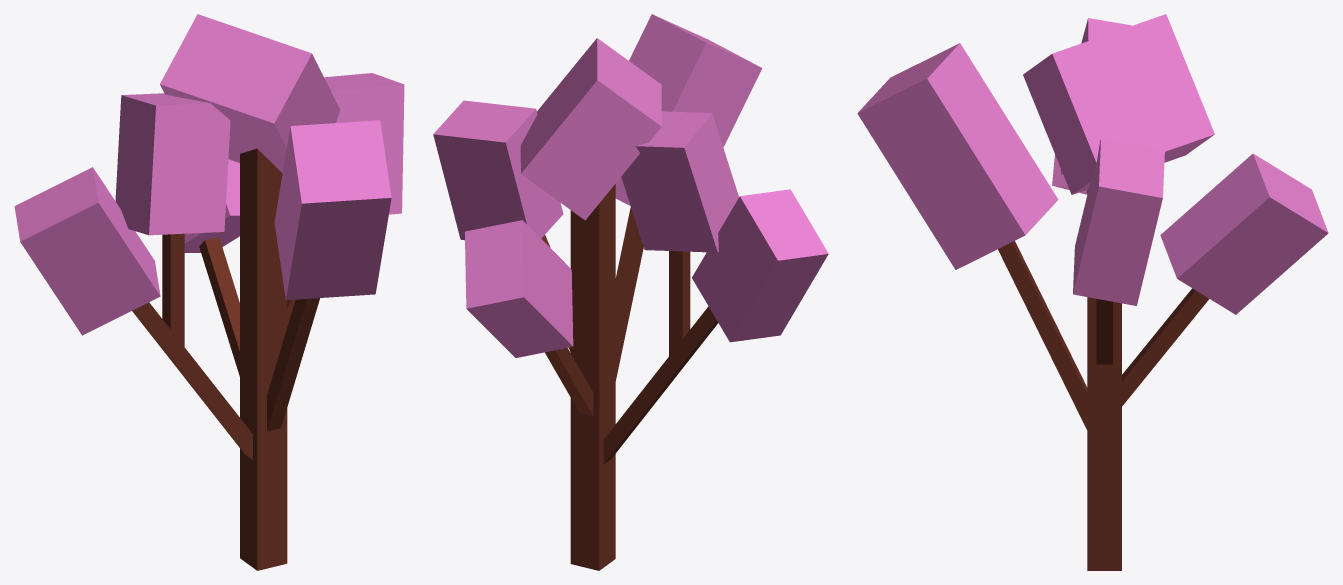
File: AlmondTree.fbx
3 views of the same model, side by side, from view 1: azimuth 30°, elevation 25°; view 2: azimuth 150°, elevation 25°; view 3: azimuth 270°, elevation 25° (orthographic). The views are drawn at different scales.
Visible parts, largest first — view 1: Cube.005; view 2: Cube.005; view 3: Cube.005.
Part boxes in pixels (x1,y1,x2,y2): Cube.005: (14,14,404,570); Cube.005: (433,14,828,570); Cube.005: (857,14,1328,570).
Bounding box in the file's own units: 449 × 597 × 479.
